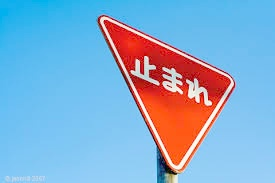Regulatory_sign_triangle: (95, 9, 238, 177)
